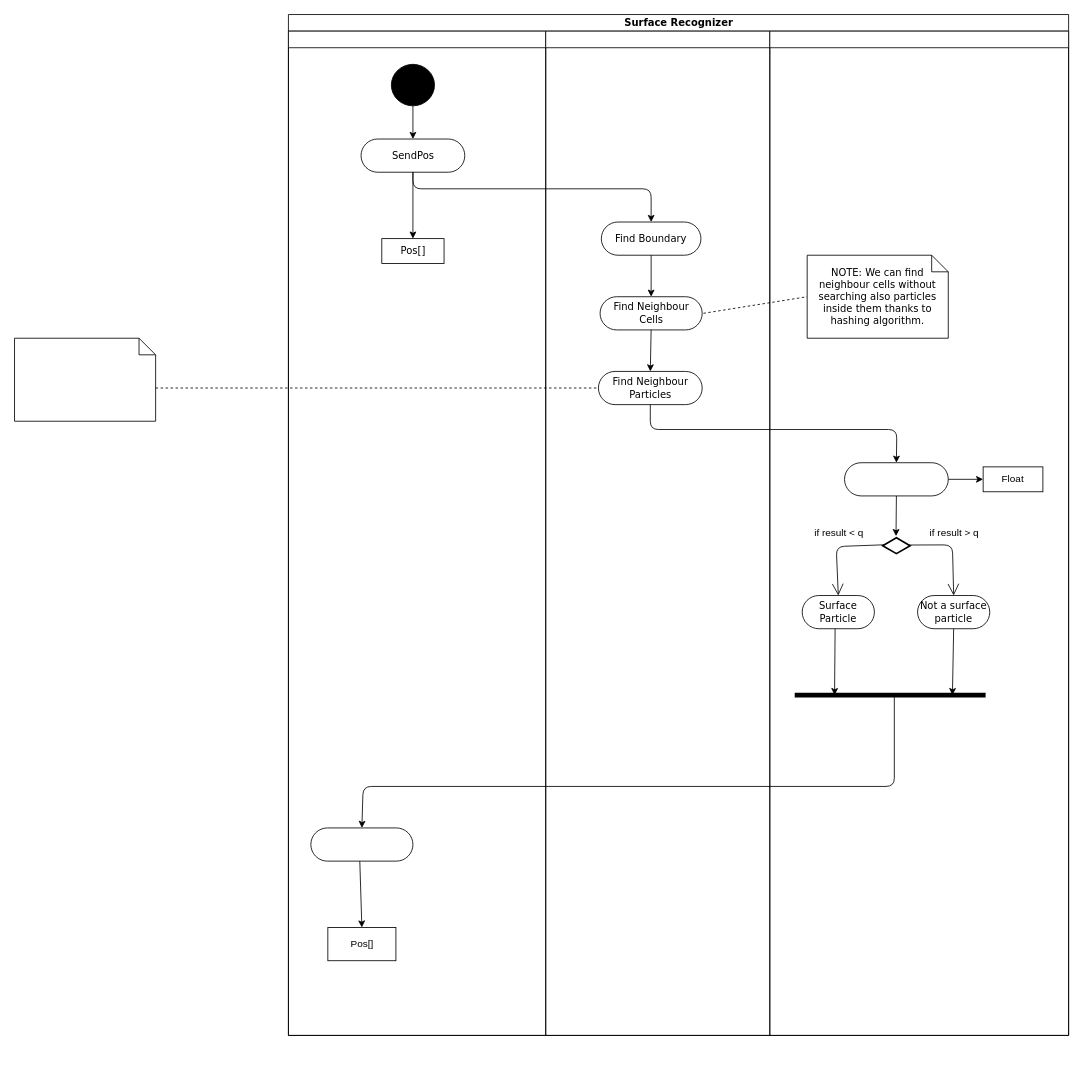
This 1083x1078 diagram has some shape labels left out. The box of each missing label's shape, as (x1, y1, x2, y2) in pixels:
Calculate Weight: (844, 462, 948, 496)
FindCells: (545, 30, 770, 1035)
FindWeight: (769, 30, 1069, 1035)
Handler: (288, 30, 546, 1035)
NOTE:We elect the particles that is not neighbour.: (14, 337, 156, 421)
Receive Surface particle data: (310, 827, 413, 861)
